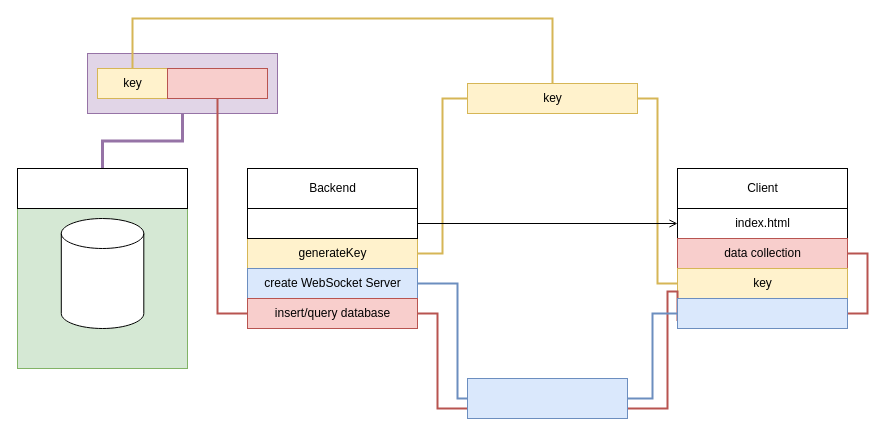
Image size: 887x436. Some labels were removed from this diagram. Each missing label, with the centre of its shape:
data: point 217,83
Database: point 102,188
send index.html: point 332,223
WebSocket: point 762,313
WebSocket Server: point 547,398
